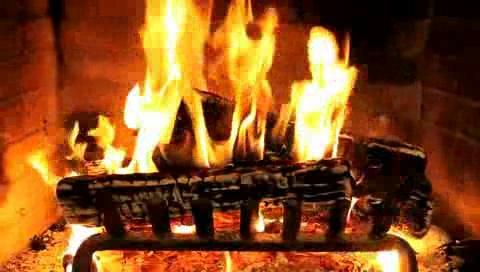fire: (66, 0, 362, 175)
